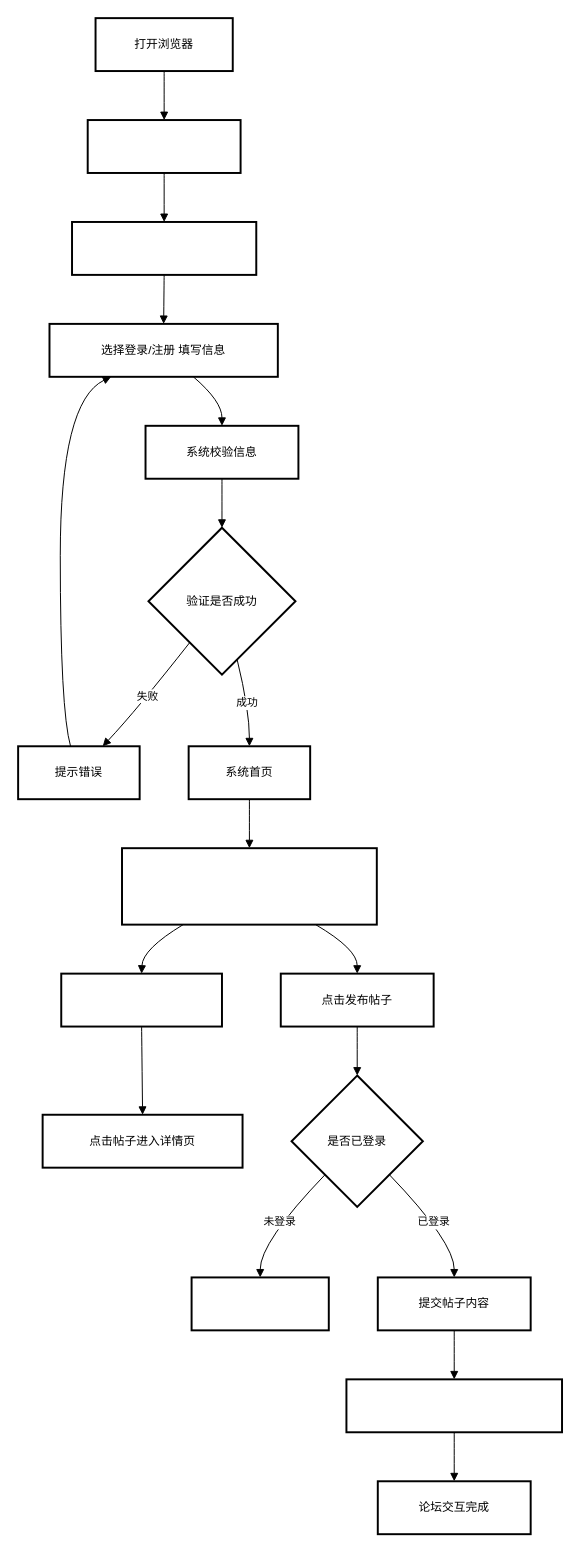
Some shapes in this 579 by 1551 pixel diagram are drawn without their labels. The box of each missing label's shape, as (x1, y1, x2, y2) in pixels:
搜索/筛选帖子: (60, 972, 222, 1027)
系统保存更新帖子列表: (345, 1378, 563, 1433)
访问系统地址: (86, 119, 241, 173)
跳转登录页: (190, 1276, 329, 1331)
进入校务论坛页面：分类+帖子列表: (121, 847, 377, 925)
进入登录注册页面: (71, 220, 257, 275)
